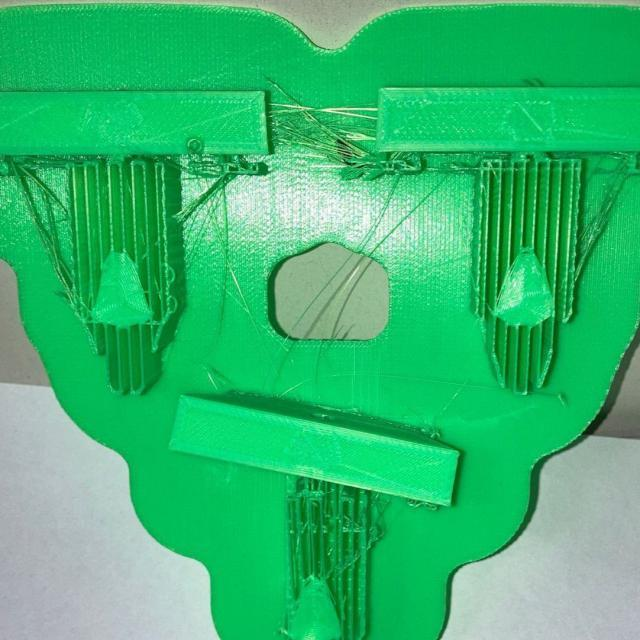stringing: (4, 160, 83, 313), (275, 101, 376, 163), (178, 171, 243, 229)
